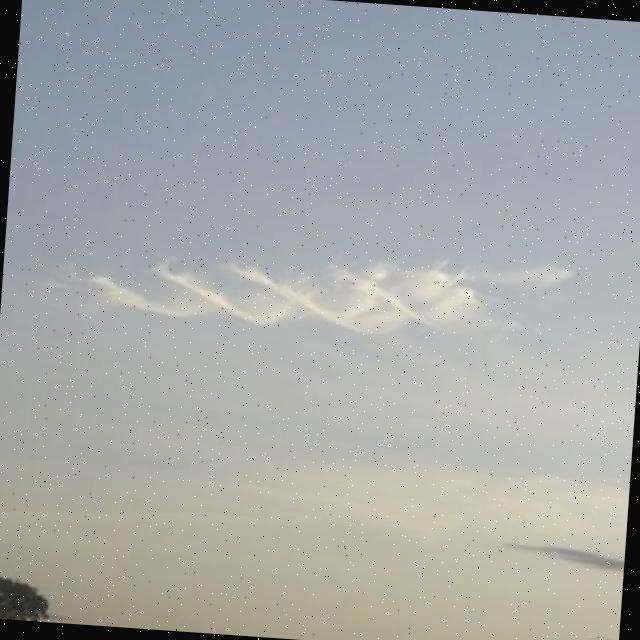Ci: (1, 156, 640, 483)
